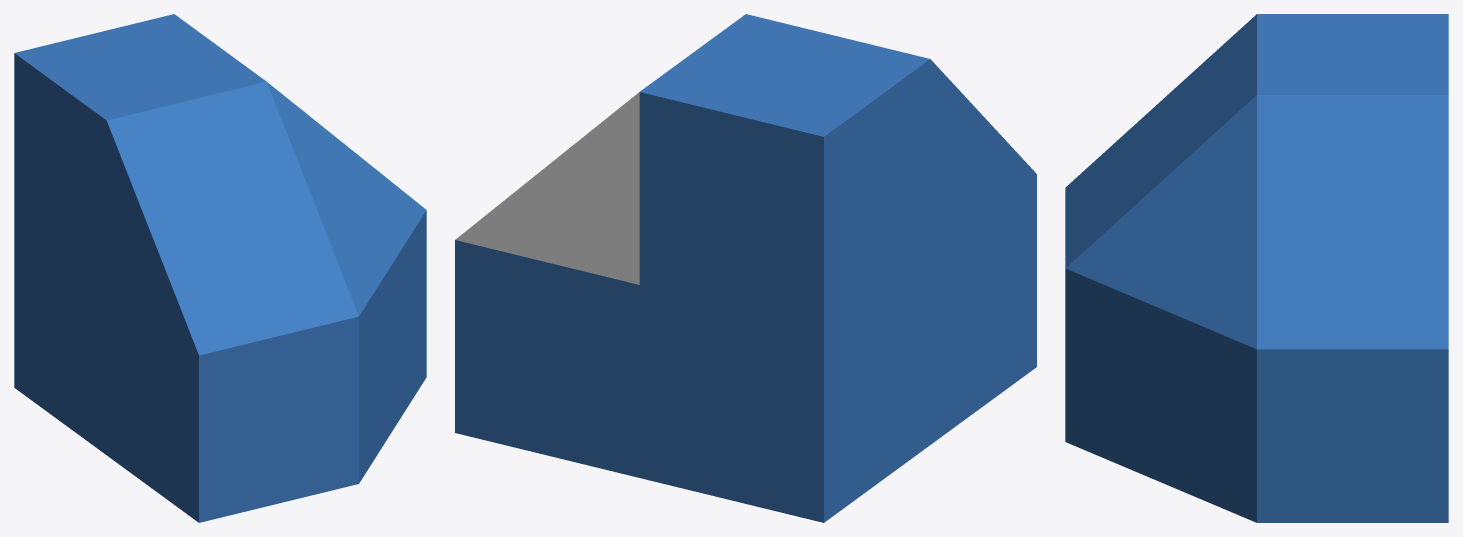
Rendered from r5c6_body_blue.gltf.
The picture shows the model from 3 angles, left to right: view 1: azimuth 30°, elevation 25°; view 2: azimuth 150°, elevation 25°; view 3: azimuth 270°, elevation 25°; orthographic projection. The views are drawn at different scales.
Parts seen in each view (by area): view 1: r5c6_body_blue; view 2: r5c6_body_blue; view 3: r5c6_body_blue.
Boxes of the visible parts, <box> form: r5c6_body_blue: <box>14,14,426,522</box>; r5c6_body_blue: <box>455,14,1036,522</box>; r5c6_body_blue: <box>1065,14,1448,522</box>.
Size of what is drawn, in the model's own units: 2 by 2 by 2.
Materials: 1 (1 with a texture image).
